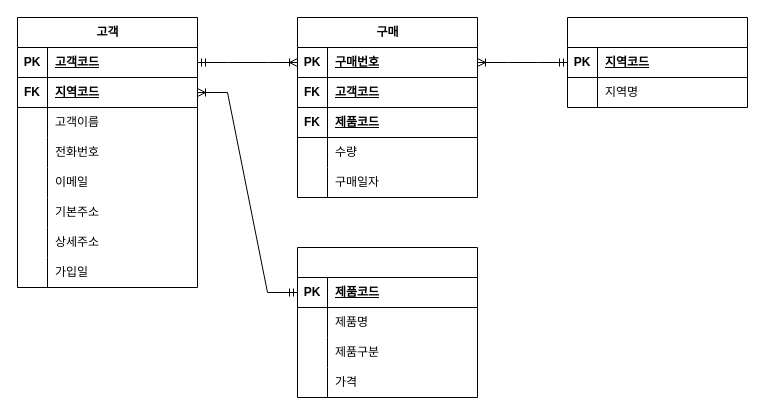
Some shapes in this 765 by 415 pixel diagram are drawn without their labels. The box of each missing label's shape, as (x1, y1, x2, y2) in pixels:
제품: (296, 246, 478, 398)
지역: (566, 16, 748, 108)
